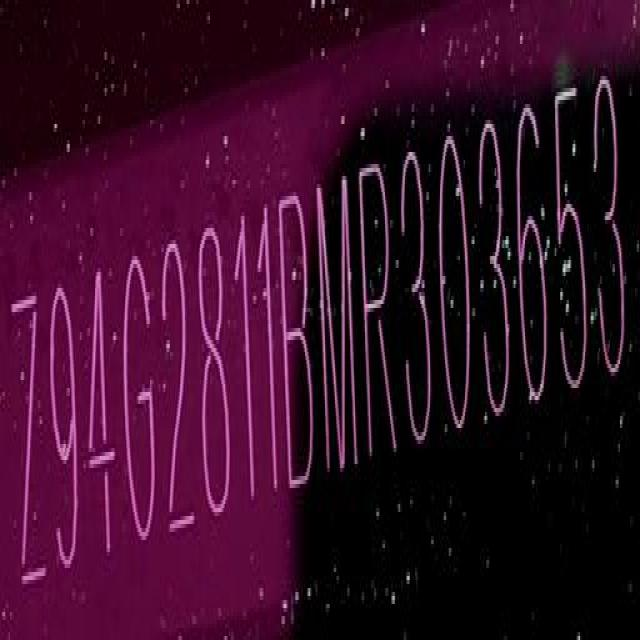0: (438, 126, 472, 432)
1: (233, 210, 258, 512), (256, 200, 275, 502)
2: (162, 240, 194, 541)
3: (590, 72, 628, 384), (399, 143, 432, 452), (479, 119, 511, 424)
4: (87, 261, 119, 564)
5: (554, 71, 585, 400)
6: (516, 97, 547, 417)
8: (201, 217, 234, 522)
9: (46, 280, 78, 582)
B: (278, 187, 314, 499)
G: (126, 250, 160, 551)
M: (318, 175, 355, 482)
R: (359, 159, 393, 469)
Z: (16, 287, 46, 604)
